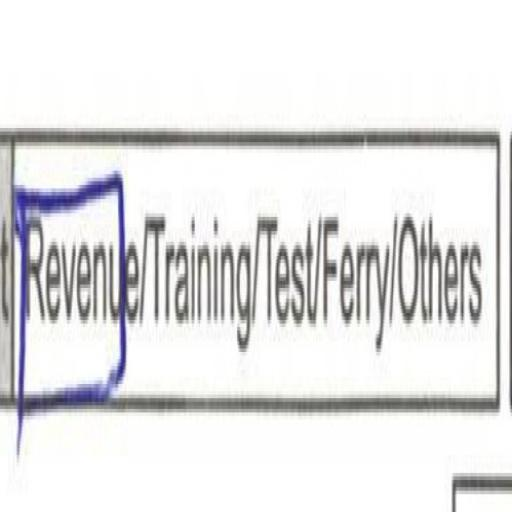check: (0, 39, 141, 475)
